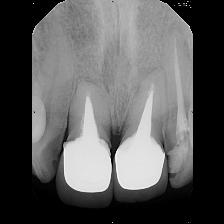apical_lesion: (113, 44, 170, 205), (56, 55, 115, 210)
